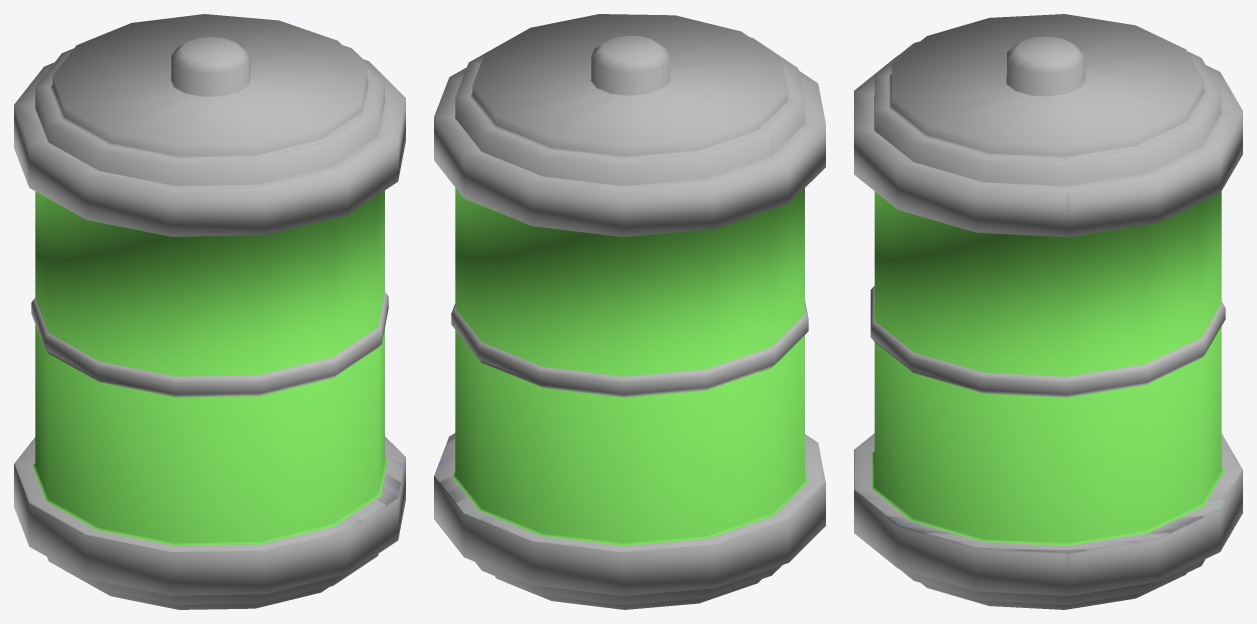
The model's file is TaskItems_Bomb.fbx.
The picture shows the model from 3 angles, left to right: view 1: azimuth 30°, elevation 25°; view 2: azimuth 150°, elevation 25°; view 3: azimuth 270°, elevation 25°; orthographic projection.
Parts seen in each view (by area): view 1: Cylinder; view 2: Cylinder; view 3: Cylinder.
Part boxes in pixels (box(x1,y1,x2,y2)): Cylinder: box(14, 14, 405, 609); Cylinder: box(434, 14, 825, 609); Cylinder: box(854, 14, 1242, 609).
Size of the model in its own units: 75.74 by 113 by 75.19.
